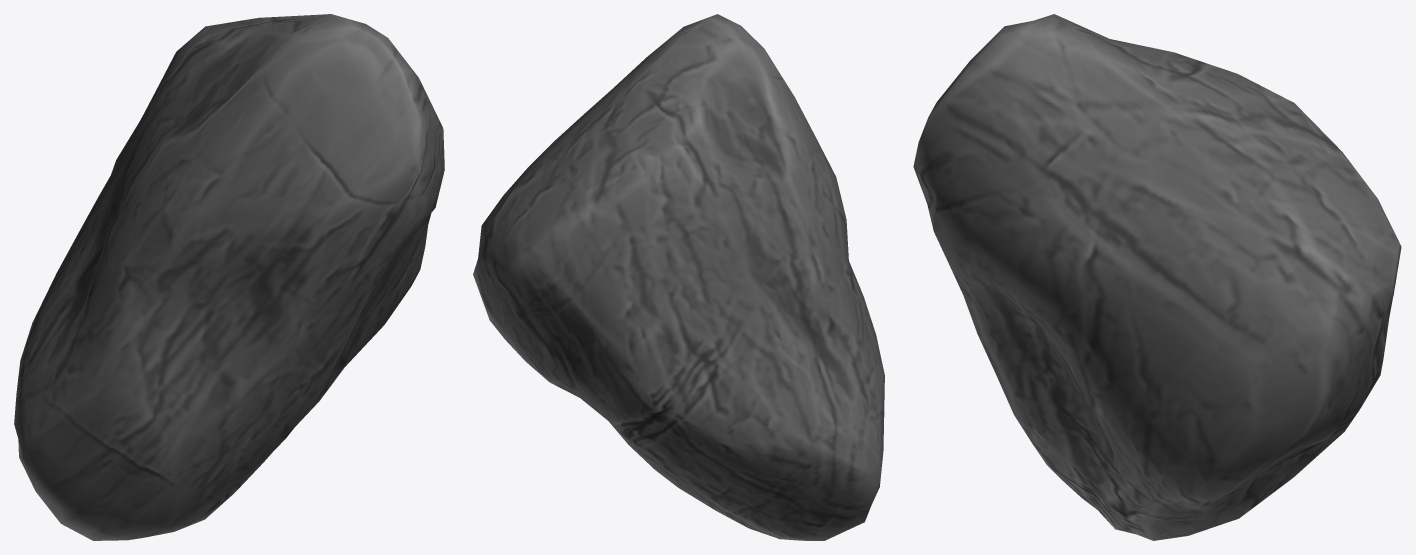
The model's file is Rock01.FBX.
3 views of the same model, side by side, from view 1: azimuth 30°, elevation 25°; view 2: azimuth 150°, elevation 25°; view 3: azimuth 270°, elevation 25° (orthographic). The views are drawn at different scales.
Visible parts, largest first — view 1: Rock01; view 2: Rock01; view 3: Rock01.
Boxes of the visible parts, box(x1,y1,x2,y2) form: Rock01: box(14, 14, 444, 540); Rock01: box(473, 14, 884, 540); Rock01: box(913, 14, 1401, 540).
Size of the model in its own units: 5.38 by 6.37 by 4.84.
